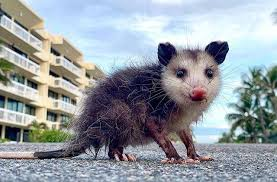opossum: (0, 40, 230, 164)
